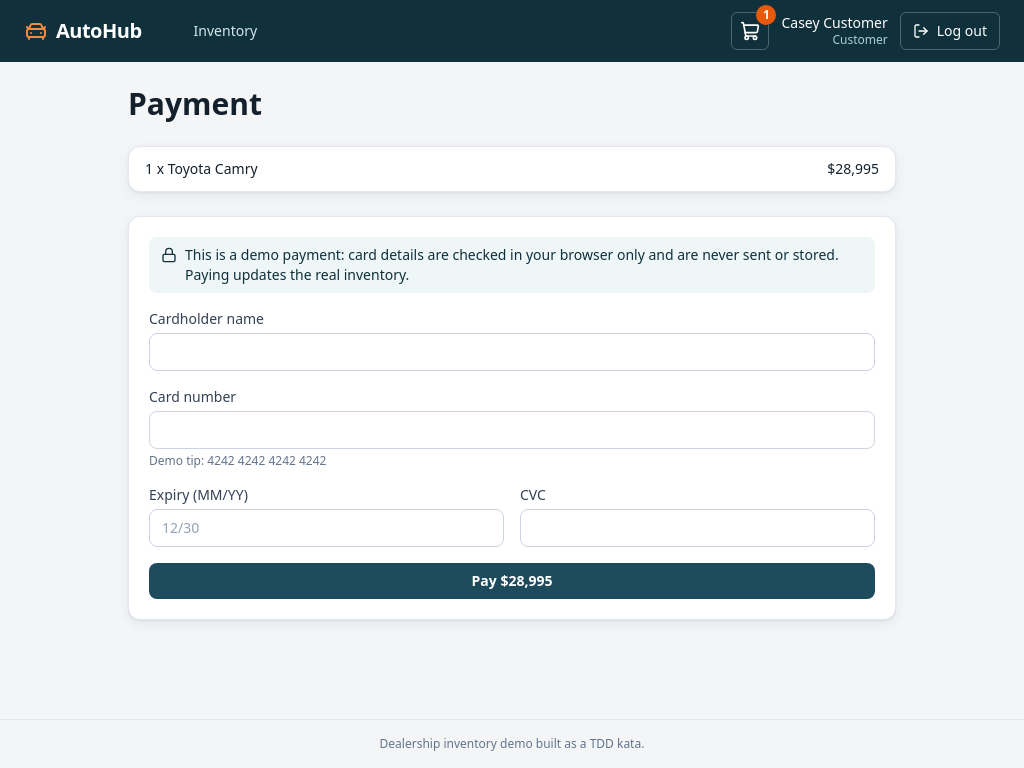
Payment page › rejects a non-numeric card number
Check: the heading "Payment" is shown, box x1=128 y1=83 x2=262 y2=124
Step 1. Type "Casey Customer" into the field labelled "Cardholder name" → point(512, 352), box x1=149 y1=333 x2=875 y2=371
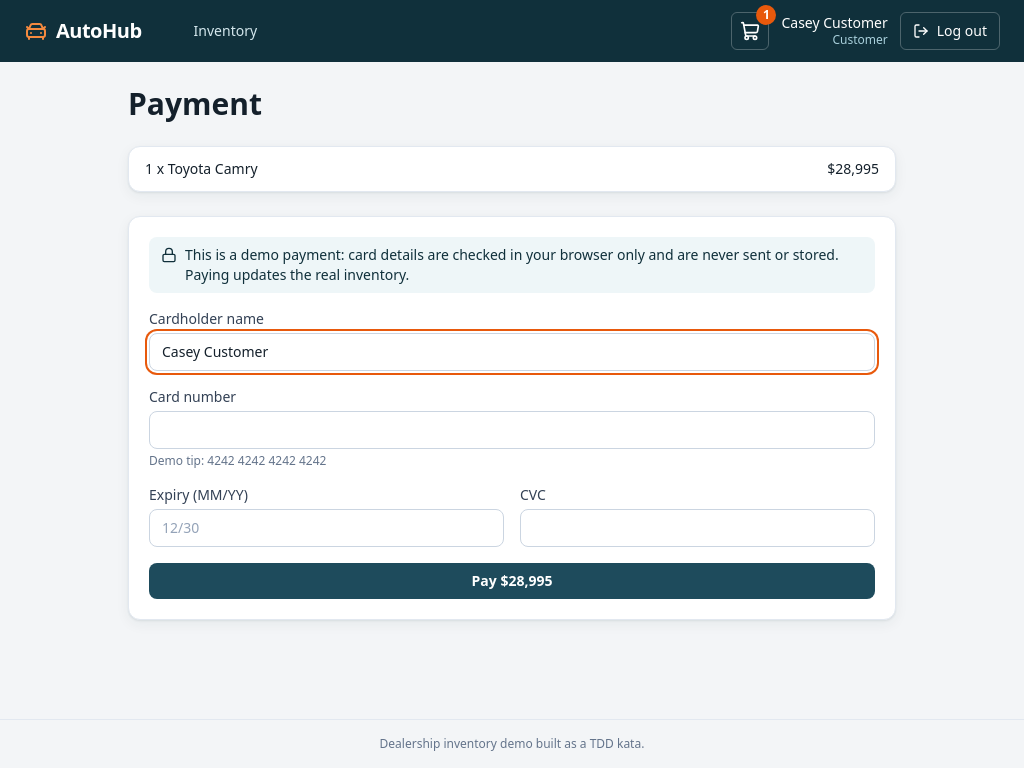
Step 2. Type "abcd efgh" into the field labelled "Card number" → point(512, 430), box x1=149 y1=411 x2=875 y2=449
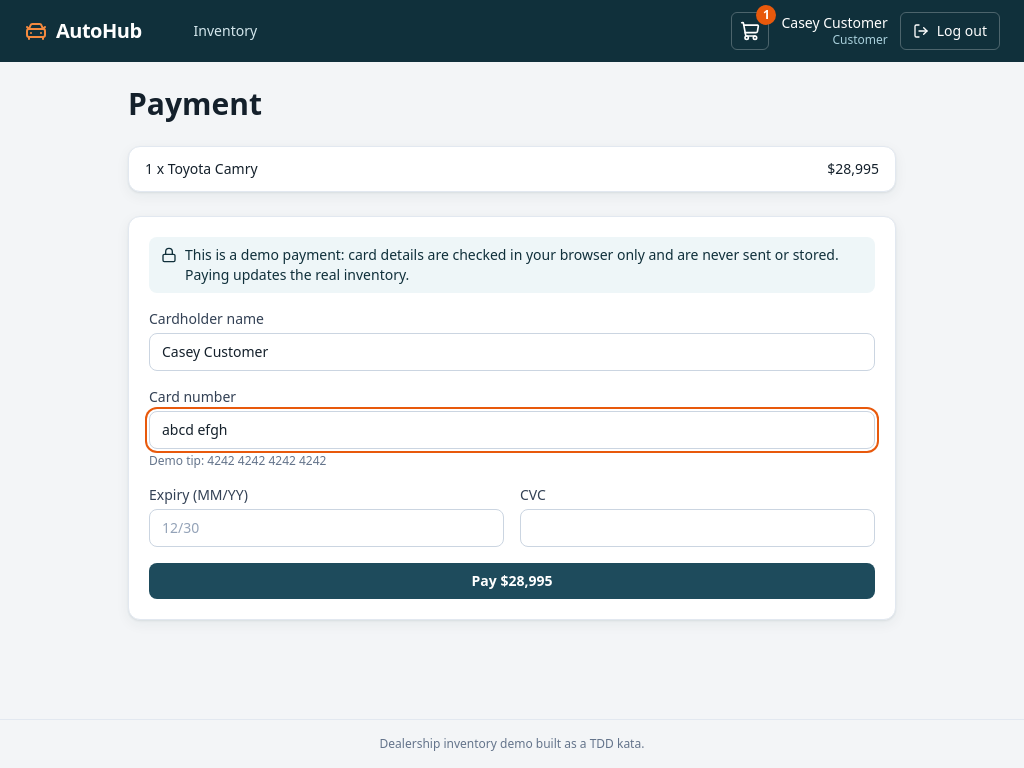
Step 3. Type "12/99" into the field labelled "Expiry (MM/YY)" → point(326, 528), box x1=149 y1=509 x2=504 y2=547
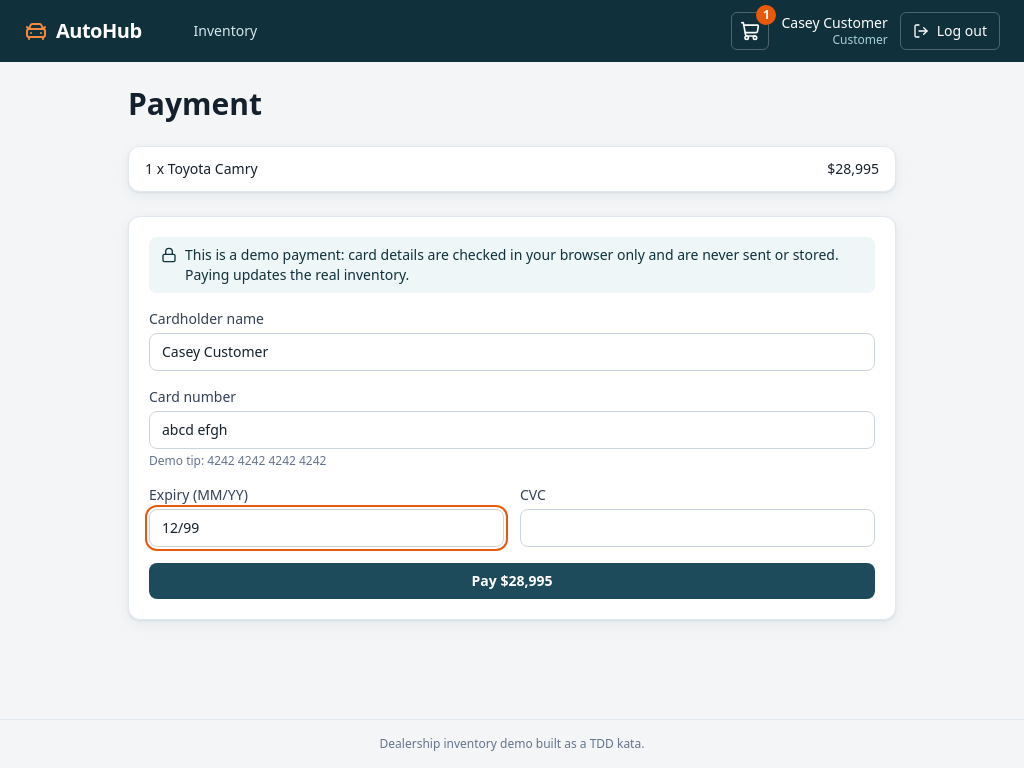
Step 4. Type "123" into the field labelled "CVC" → point(698, 528), box x1=520 y1=509 x2=875 y2=547
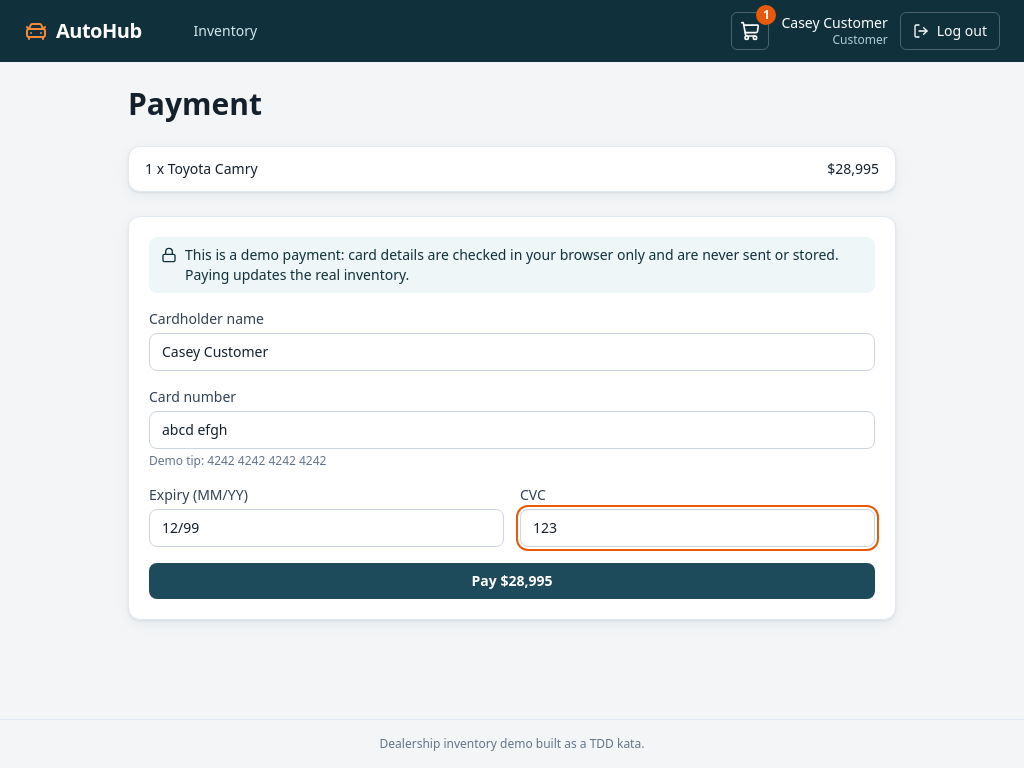
Step 5. Click the button "Pay $28,995" → point(512, 581), box x1=149 y1=563 x2=875 y2=599
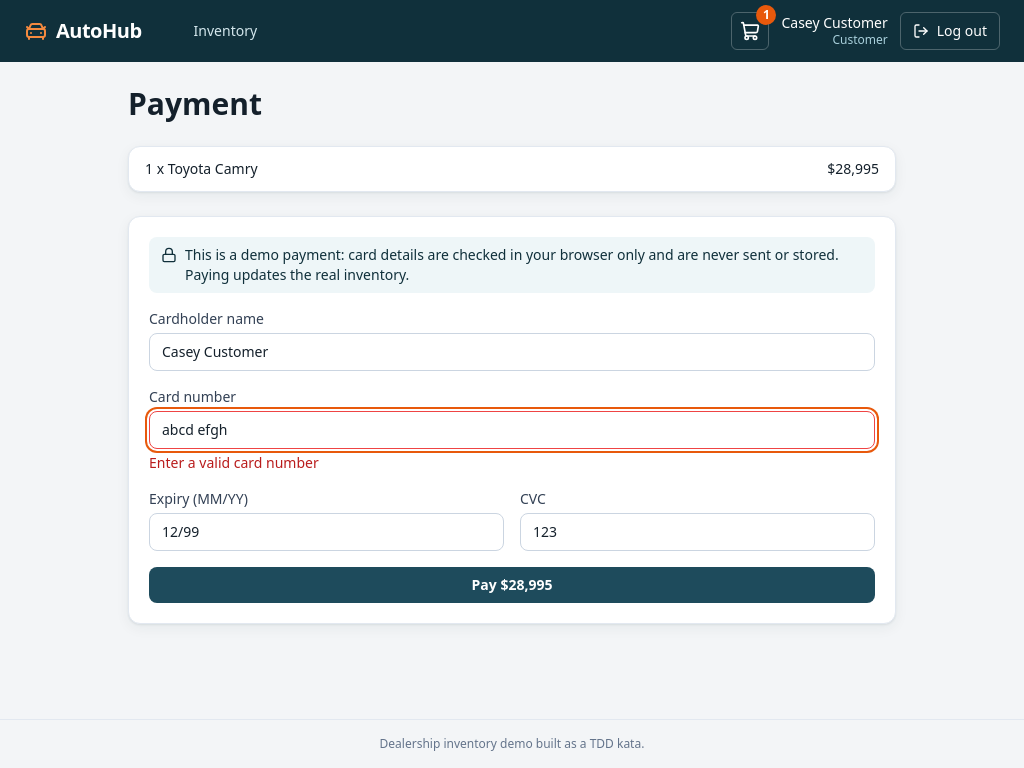
Check: the text "Enter a valid card number" is shown, box x1=149 y1=453 x2=319 y2=472
